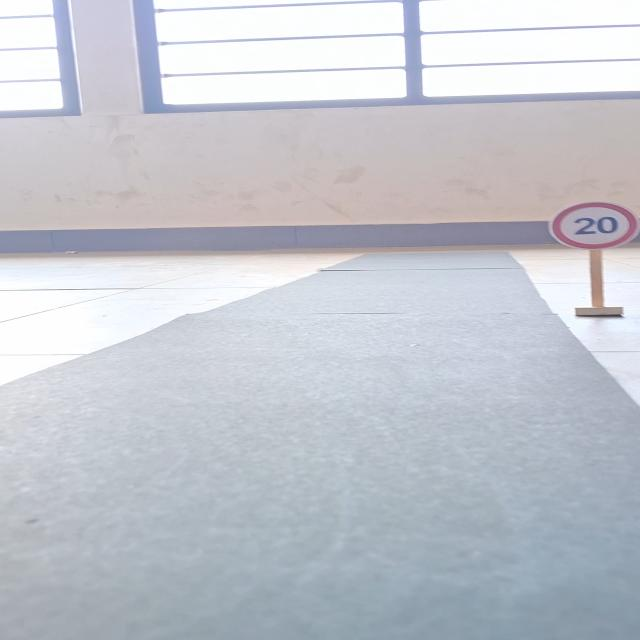Speed20: (547, 198, 640, 252)
